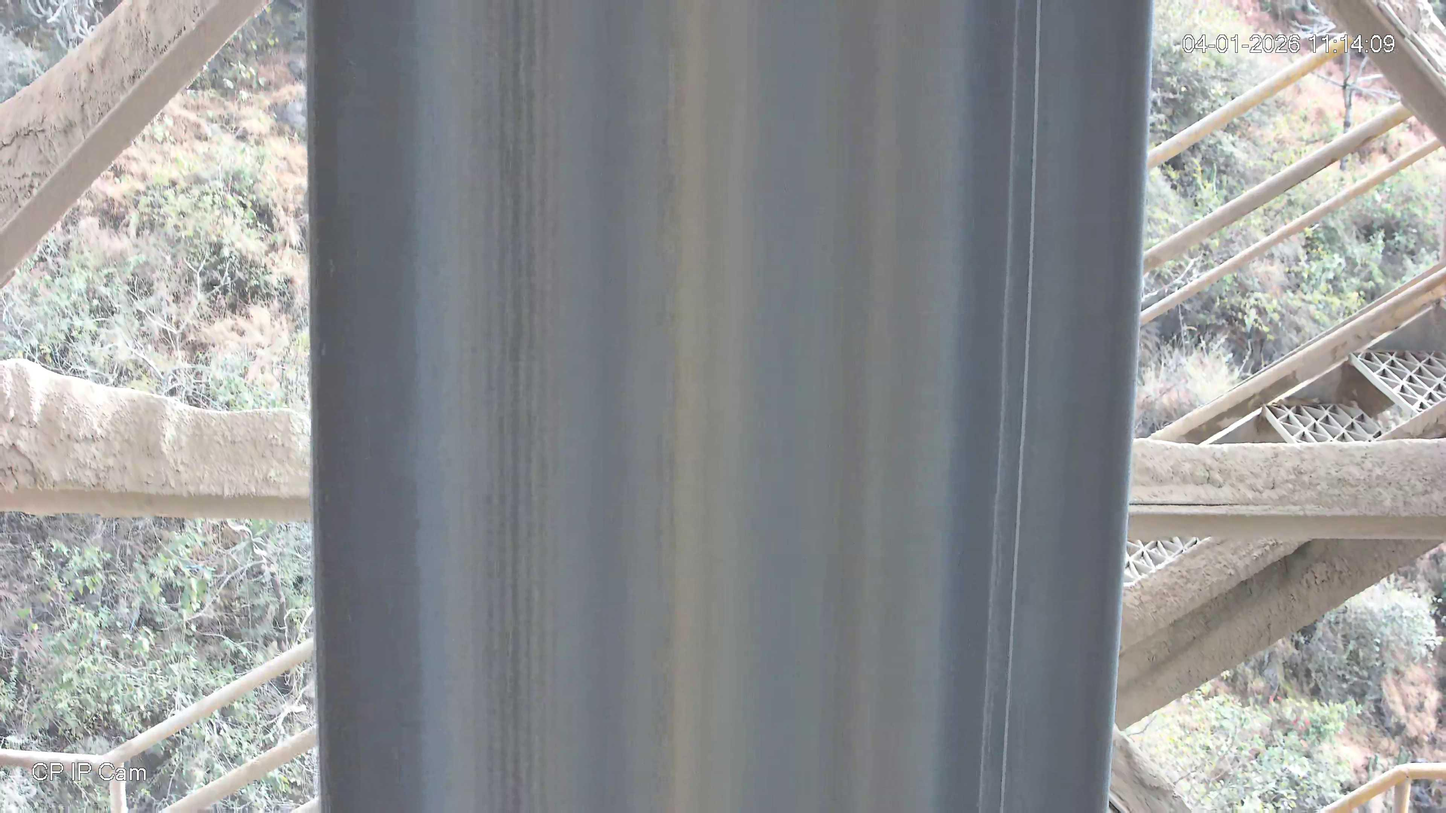belt_roi: (304, 0, 1154, 812)
